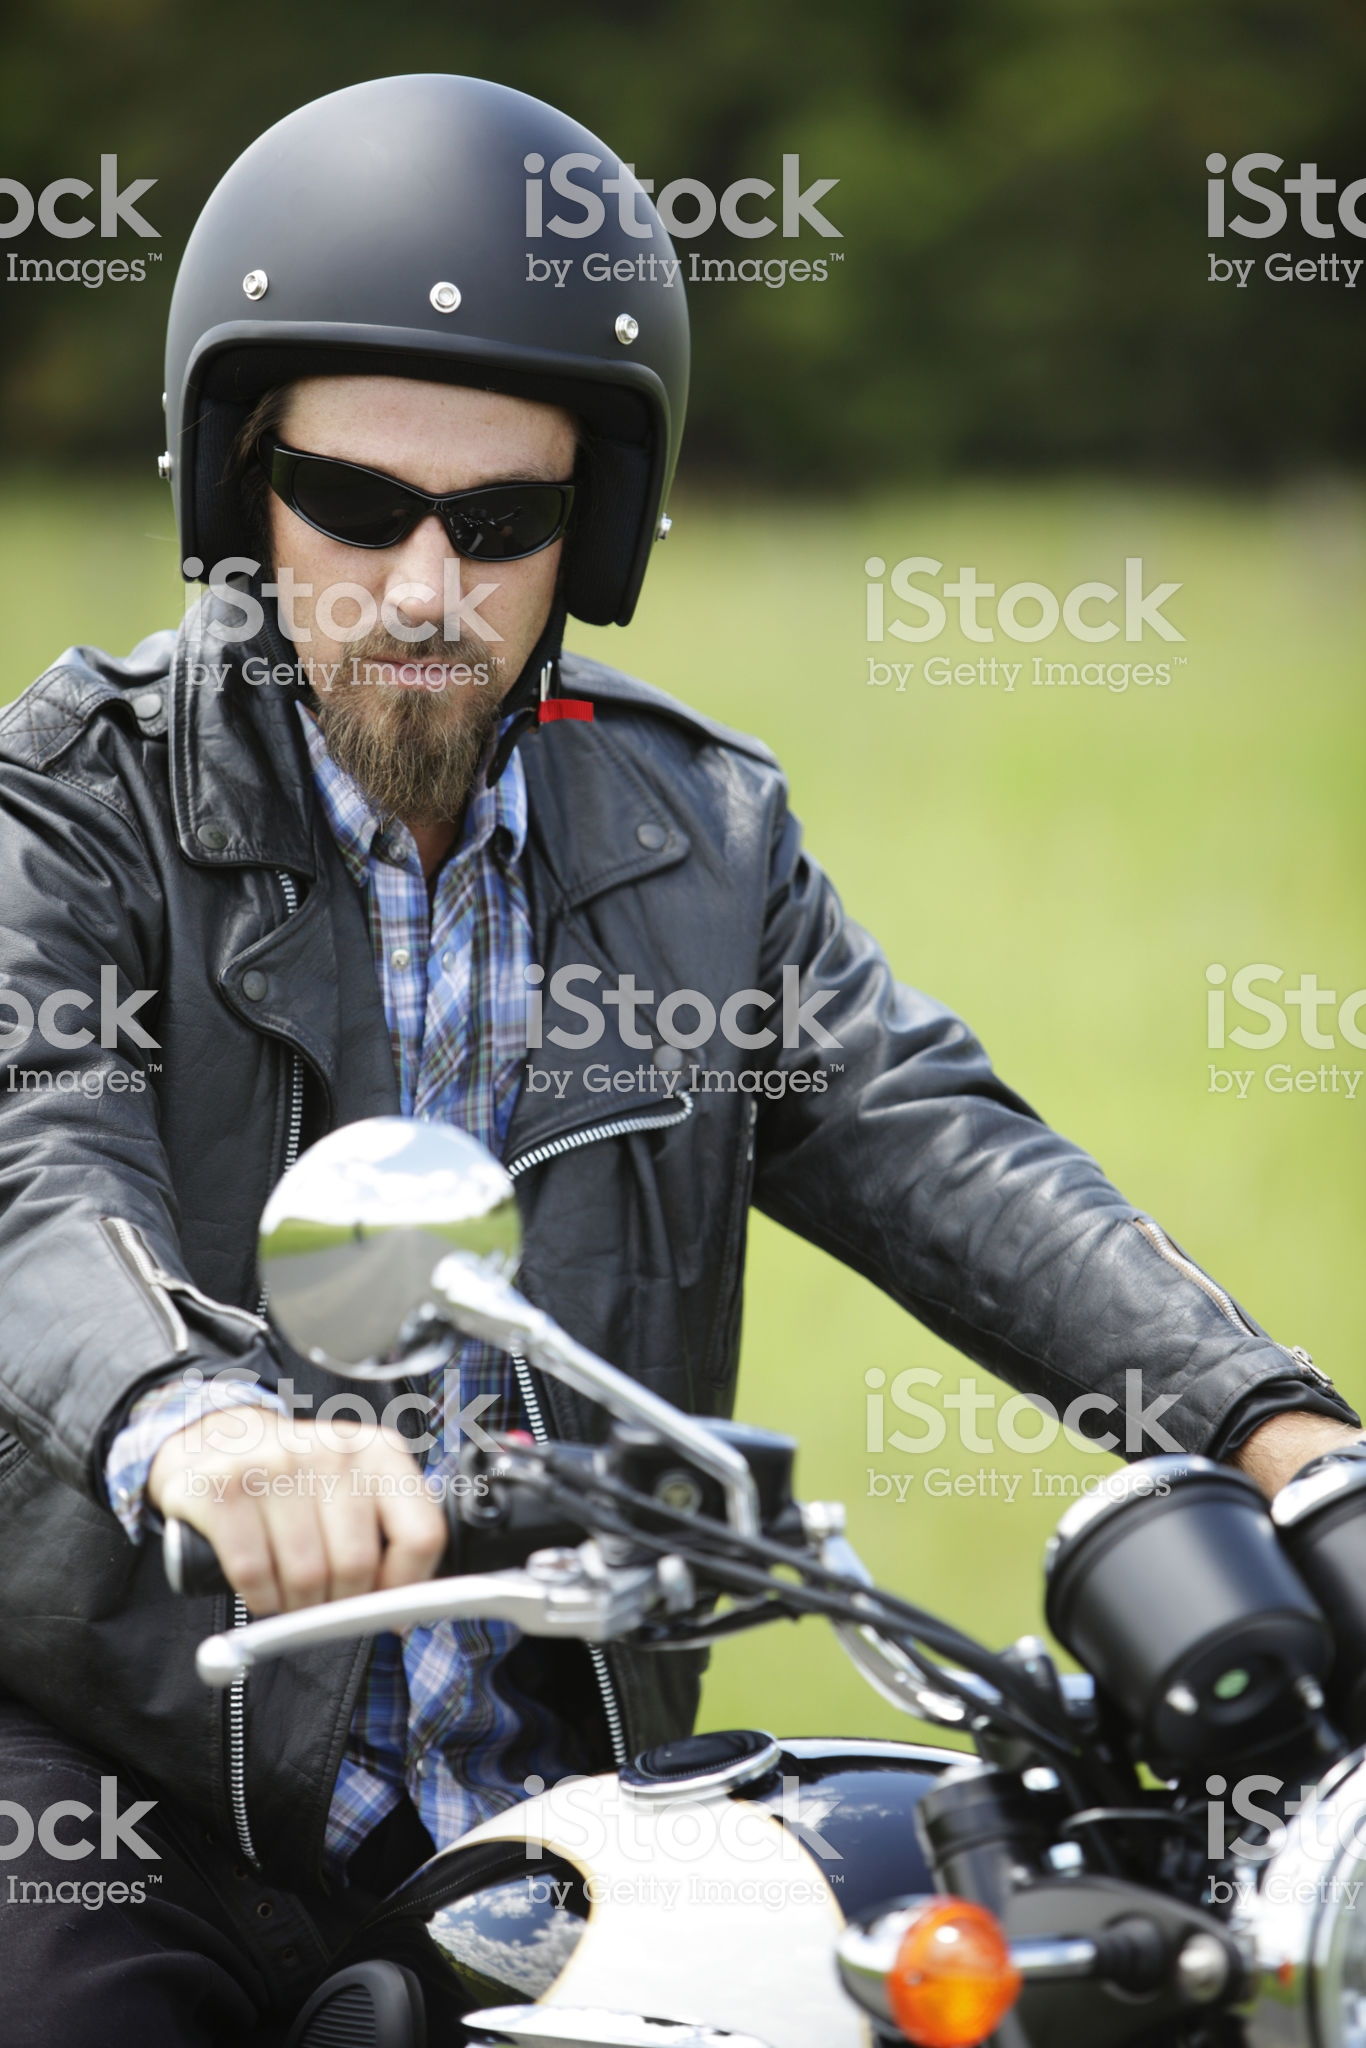helmet: (163, 78, 698, 625)
